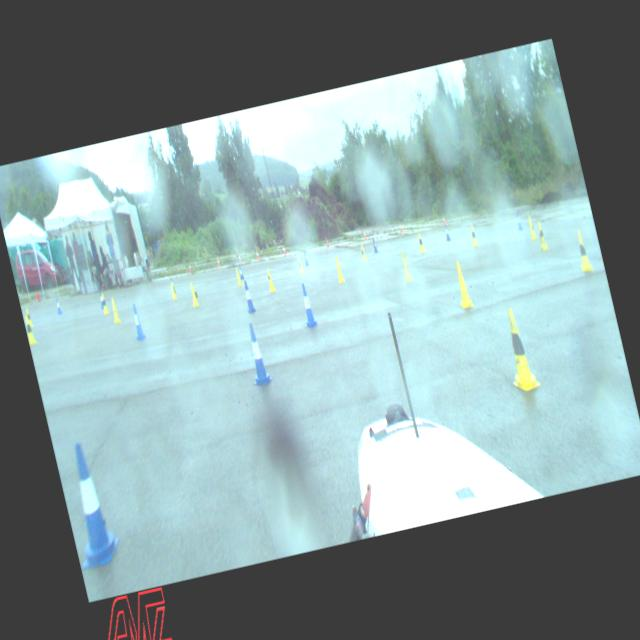blue_cone: (57, 440, 124, 568), (240, 321, 274, 388), (296, 281, 318, 327), (129, 304, 145, 339), (241, 280, 256, 313), (514, 210, 522, 230), (444, 223, 451, 240), (54, 298, 61, 314), (98, 291, 104, 309), (169, 276, 175, 294), (371, 237, 378, 252), (237, 264, 244, 278), (302, 250, 308, 266)
orange_cone: (186, 262, 192, 272), (441, 214, 446, 224), (363, 229, 367, 239), (216, 256, 220, 266), (325, 237, 329, 247), (398, 222, 402, 232), (282, 244, 286, 253), (238, 253, 242, 262), (255, 250, 259, 258)
yellow_cone: (496, 306, 541, 394), (450, 260, 473, 308), (574, 230, 592, 272), (398, 249, 412, 282), (535, 220, 548, 250), (23, 315, 34, 343), (109, 298, 120, 324), (333, 256, 344, 282), (265, 268, 275, 292), (526, 216, 536, 240), (188, 282, 198, 306), (469, 224, 478, 246), (416, 232, 424, 252), (100, 293, 108, 313), (234, 268, 242, 286), (168, 281, 176, 299), (296, 255, 304, 272), (359, 243, 366, 261), (26, 308, 32, 327)
